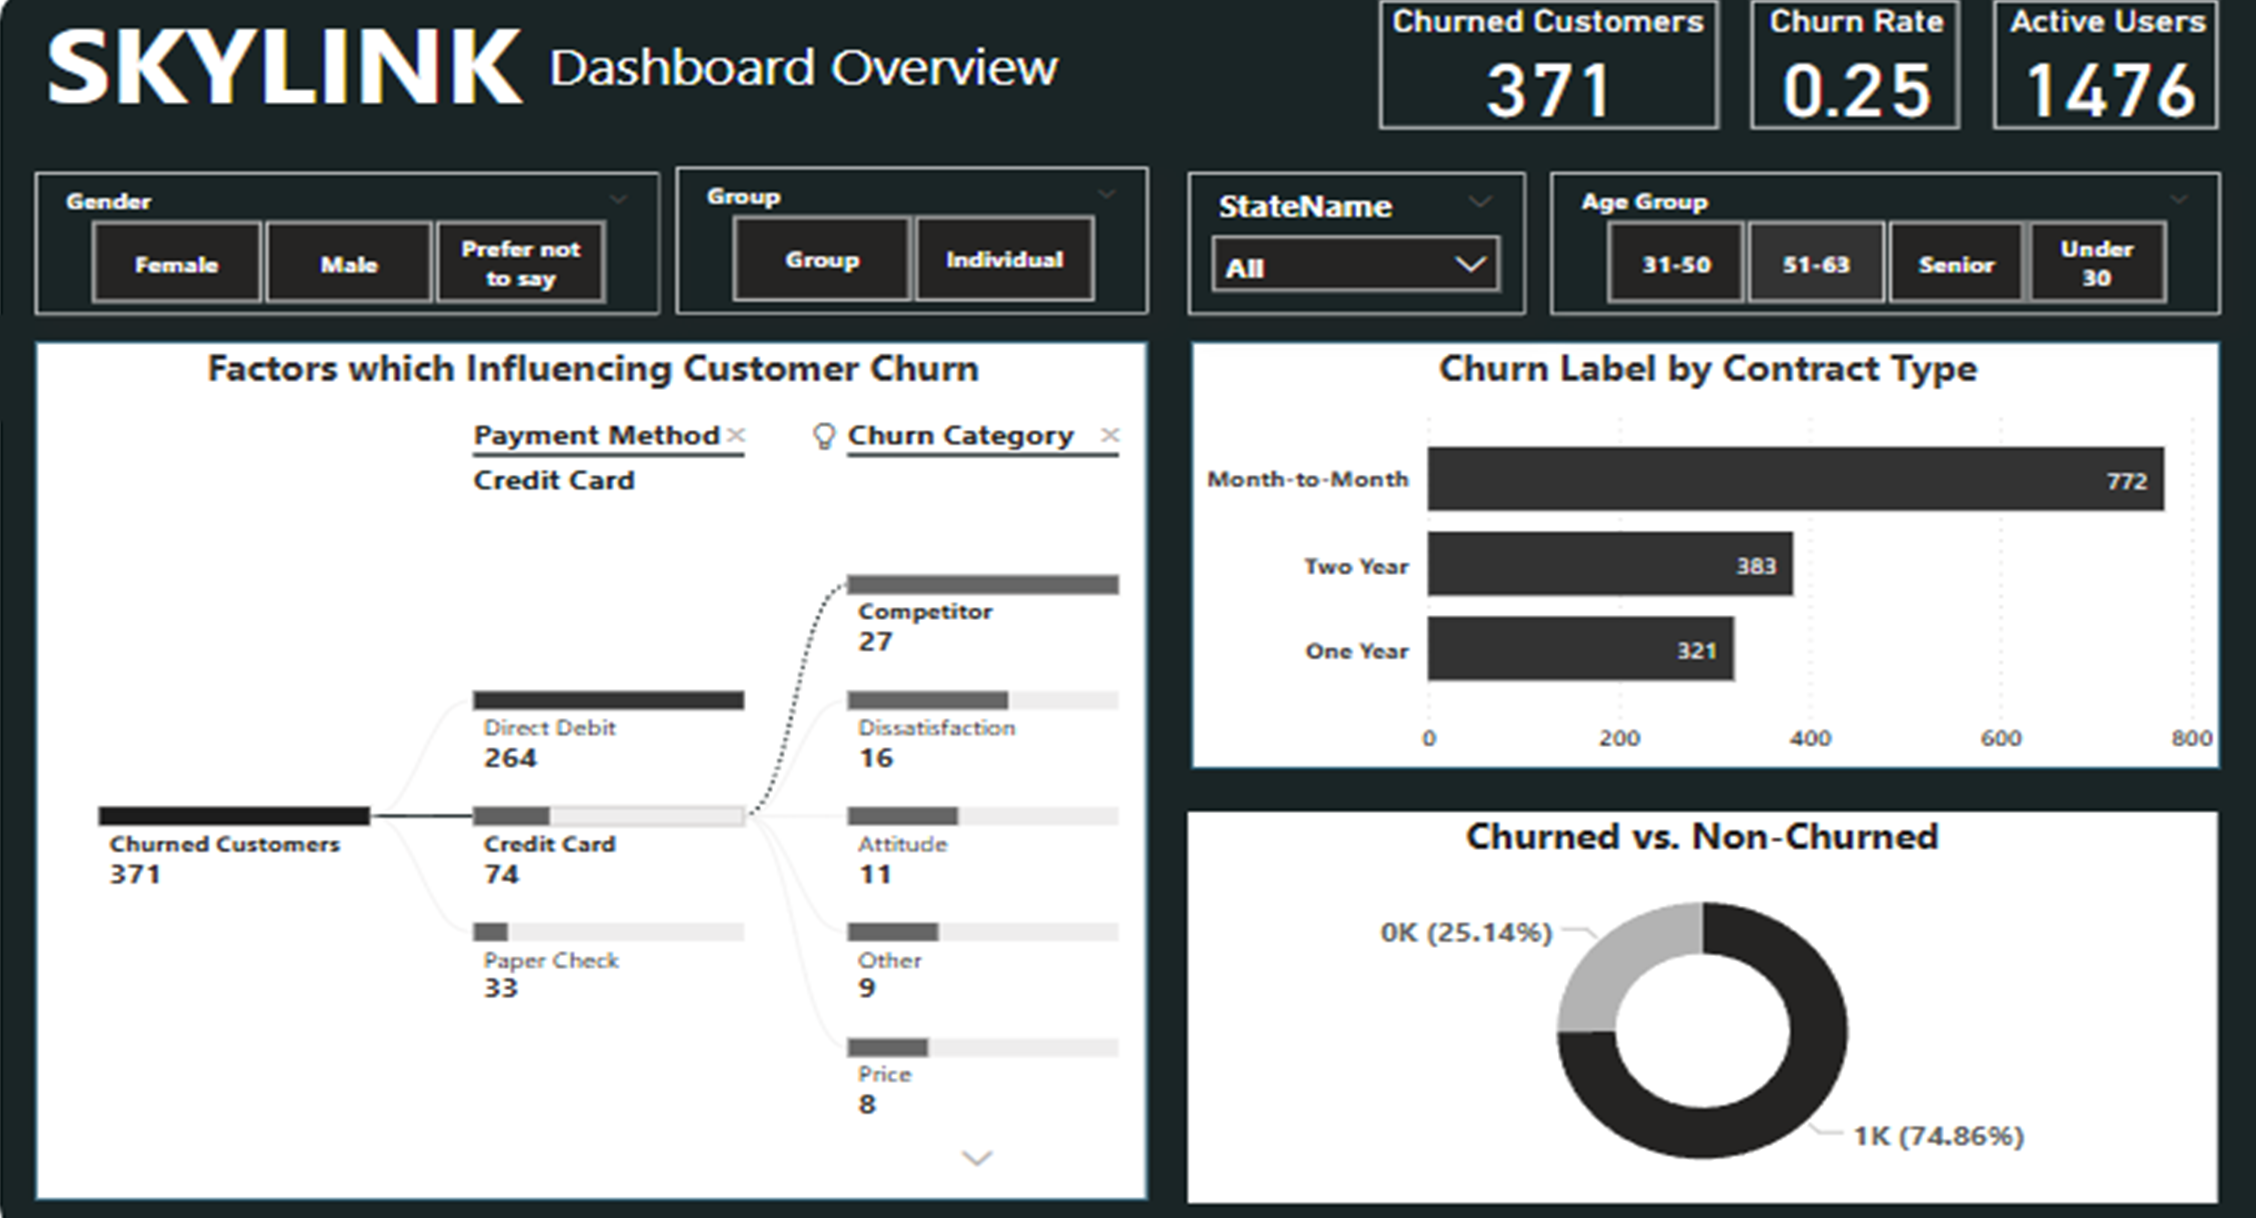

Layout of this report page (visuals, bound fields, positions):
{"tool":"powerbi","page":{"name":"Home","canvas":[1280,720],"ordinal":1},"visuals":[{"type":"shape","box":[175,21.7,1093.3,685],"z":0},{"type":"card","title":"Active Users","fields":{"Values":["Key Measures & KPIs.Active Users"]},"box":[1135,30,108.3,70],"z":1000},{"type":"shape","box":[0,201.4,205.7,58.6],"z":2000},{"type":"actionButton","box":[21.4,201.4,148.6,44.3],"z":3000},{"type":"card","title":"Churned Customers","fields":{"Values":["Key Measures & KPIs.Churned Customers"]},"box":[840,30,163.3,70],"z":4000},{"type":"card","title":"Churn Rate","fields":{"Values":["Key Measures & KPIs.Churn Rate"]},"box":[1018.3,30,100,70],"z":5000},{"type":"textbox","box":[193.3,21.7,248.3,100],"z":6000},{"type":"textbox","box":[435,41.7,293.3,58.3],"z":7000},{"type":"actionButton","box":[5.7,290,164.3,55.7],"z":8000},{"type":"actionButton","box":[5.7,368.6,164.3,82.9],"z":10000},{"type":"barChart","title":"Churn Label by Contract Type","fields":{"Category":["SkyLink - Dataset.Contract Type"],"Y":["CountNonNull(SkyLink - Dataset.Churn Label)"]},"box":[748.3,216.7,495,233.3],"z":12000},{"type":"donutChart","title":"Churned vs. Non-Churned","fields":{"Y":["Key Measures & KPIs.Retention Customers","Key Measures & KPIs.Churned Customers"]},"box":[746.7,471.7,495,213.3],"z":13000},{"type":"slicer","fields":{"Values":["SkyLink - Dataset.Age Group"]},"box":[921.7,123.3,321.7,78.3],"z":14000},{"type":"slicer","fields":{"Values":["SkyLink - Dataset.Gender"]},"box":[193.3,123.3,300,78.3],"z":15000},{"type":"slicer","fields":{"Values":["SkyLink - Dataset.StateName"]},"box":[746.7,123.3,161.7,78.3],"z":16000},{"type":"slicer","fields":{"Values":["SkyLink - Dataset.Group"]},"box":[501.7,121.7,226.7,80],"z":17000},{"type":"decompositionTreeVisual","title":" Factors which Influencing Customer Churn","fields":{"ExplainBy":["SkyLink - Dataset.Payment Method","SkyLink - Dataset.Churn Category"],"Analyze":["Key Measures & KPIs.Churned Customers"]},"box":[193.3,216.7,535,468.3],"z":18001}]}

Visuals, with their boxes on the page's 1280x720 design canvas (x1, y1, x2, y2). These are canvas units, not pixel positions in the 2256x1218 screenshot, which may show the page scaled, cropped or inside an application window:
shape: (175, 22, 1268, 707)
"Active Users" card: (1135, 30, 1243, 100)
shape: (0, 201, 206, 260)
actionButton: (21, 201, 170, 246)
"Churned Customers" card: (840, 30, 1003, 100)
"Churn Rate" card: (1018, 30, 1118, 100)
textbox: (193, 22, 442, 122)
textbox: (435, 42, 728, 100)
actionButton: (6, 290, 170, 346)
actionButton: (6, 369, 170, 452)
"Churn Label by Contract Type" barChart: (748, 217, 1243, 450)
"Churned vs. Non-Churned" donutChart: (747, 472, 1242, 685)
slicer - SkyLink - Dataset.Age Group: (922, 123, 1243, 202)
slicer - SkyLink - Dataset.Gender: (193, 123, 493, 202)
slicer - SkyLink - Dataset.StateName: (747, 123, 908, 202)
slicer - SkyLink - Dataset.Group: (502, 122, 728, 202)
" Factors which Influencing Customer Churn" decompositionTreeVisual: (193, 217, 728, 685)
